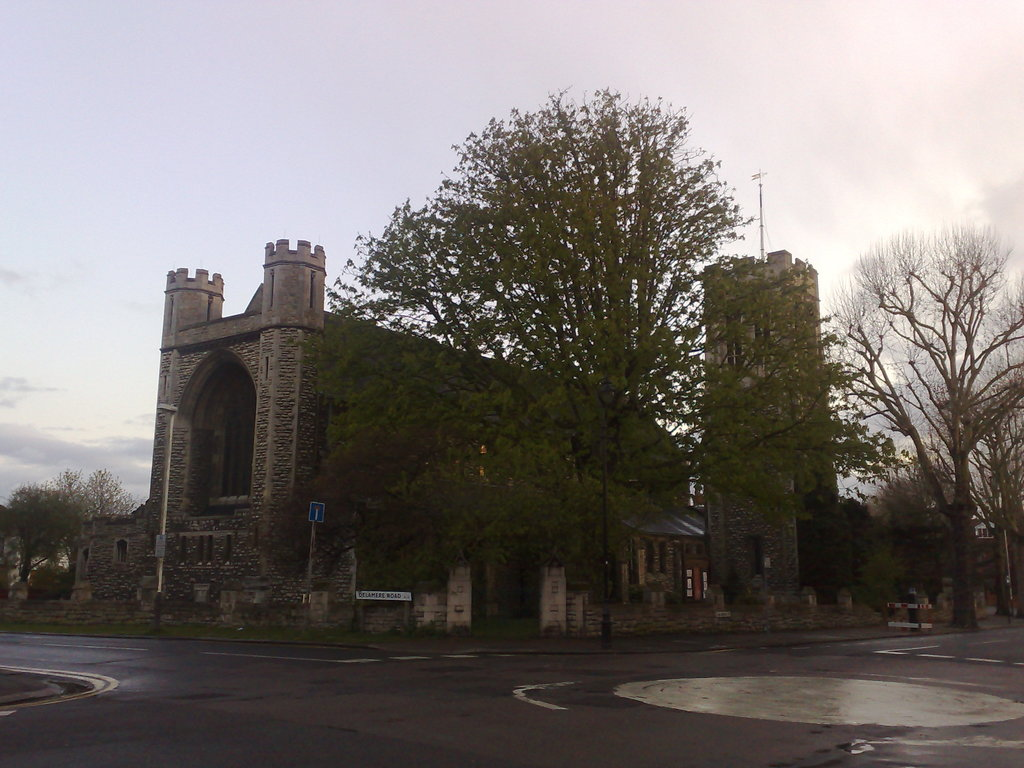tree: (295, 83, 903, 612), (822, 217, 1024, 632)
